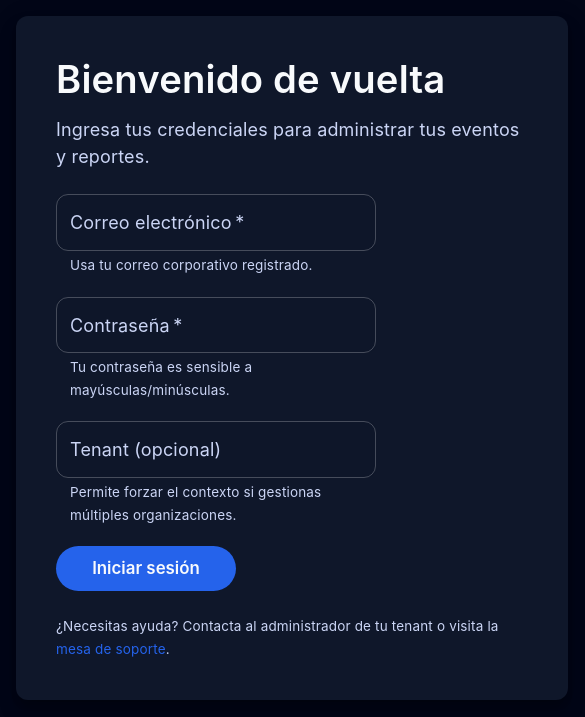
Scenario: Login › muestra mensajes de validación cuando faltan campos
Click the button "Iniciar sesión": (146, 569) [56, 546, 236, 592]
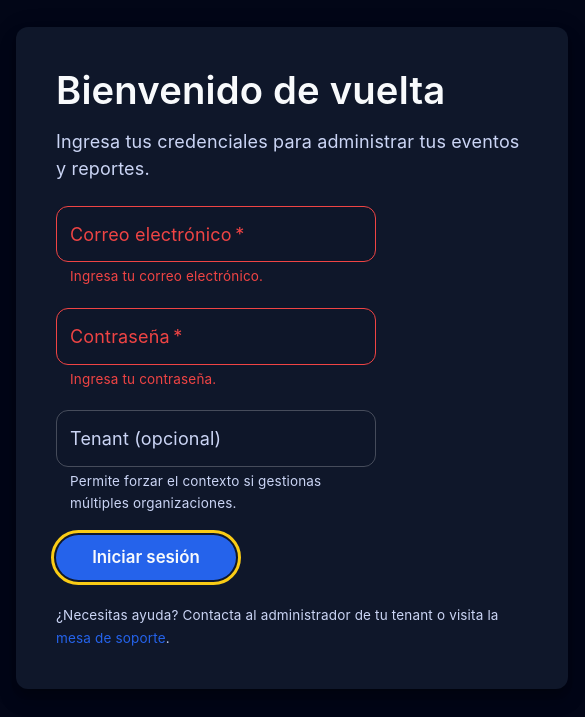
Result: the text "Ingresa tu correo electrónico." is shown at [70, 268, 263, 284]
Result: the text "Ingresa tu contraseña." is shown at [70, 371, 216, 387]
